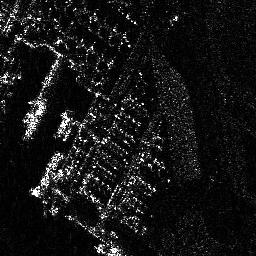ship: (29, 148, 61, 199), (22, 97, 45, 140), (54, 109, 72, 140)
